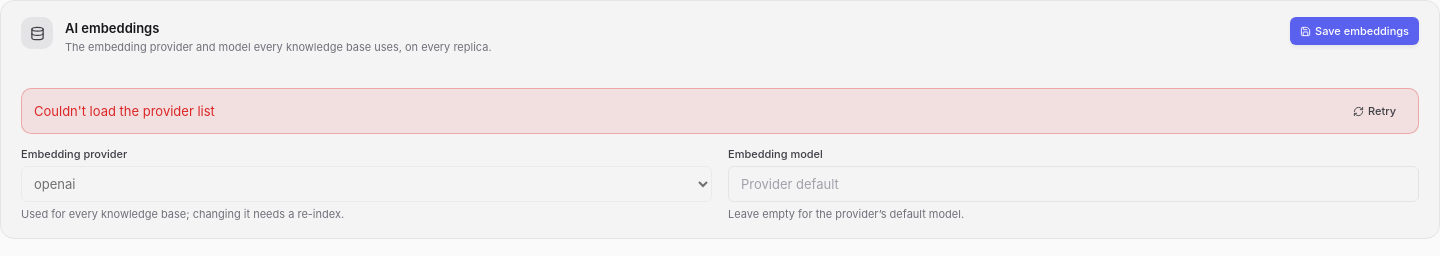
Test: AIEmbeddingsCard › says when the provider list could not be loaded and retries it
This screenshot has width=1440, height=256.
Expected: the message shows "Couldn't load the provider list", [34,103,215,119]
Expected: the dropdown labelled "Embedding provider" is disabled, [21,166,712,202]
Click the button "Retry": {"x": 1375, "y": 111} [1343,97,1406,125]
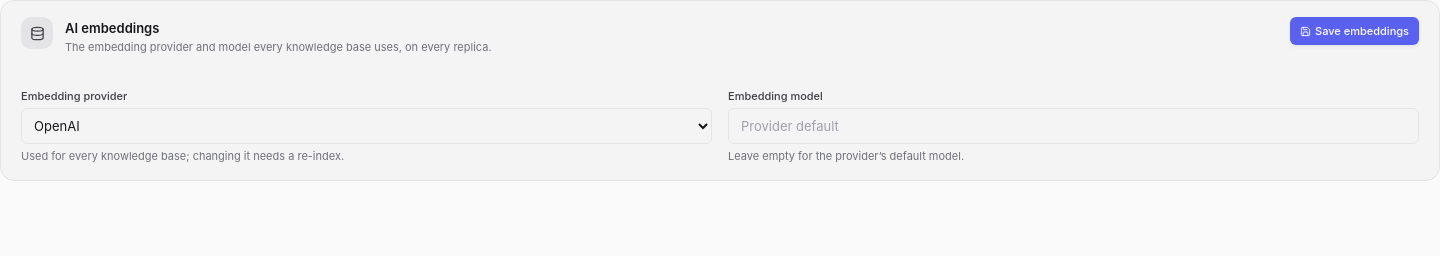
Now the dropdown labelled "Embedding provider" is enabled, box [21,108,712,144]
Now the message "Couldn't load the provider list Retry" is gone
